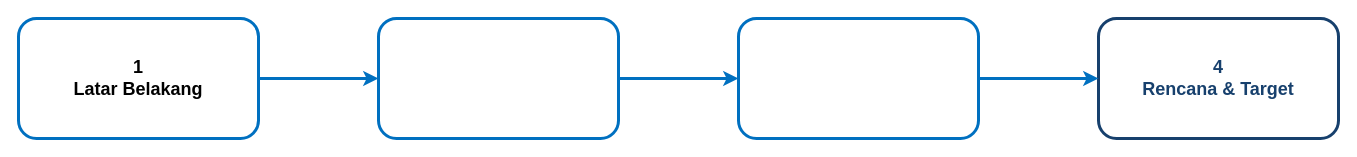
Image size: 1357x157. Some labels were removed from this diagram. Here are the shapes that lost their labels. From the top down, the centre of each, then its label:
the point at 498,78: 2 Landasan Teori
the point at 858,78: 3 Metodologi
